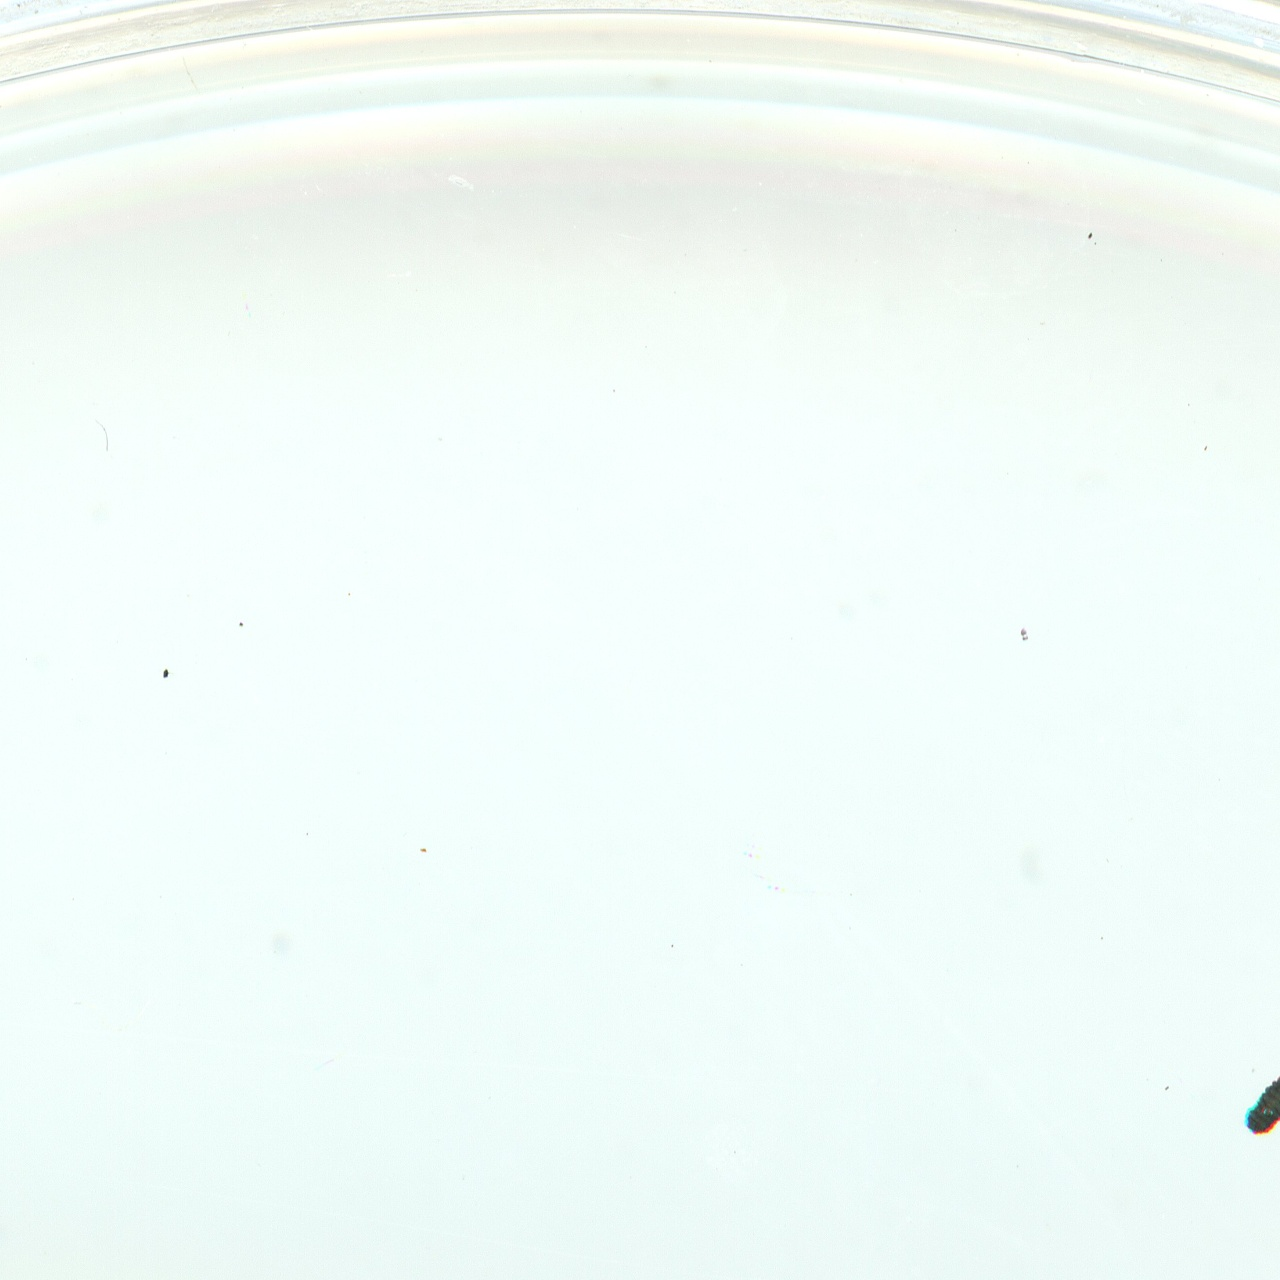arthropod: (1241, 1060, 1280, 1137)
